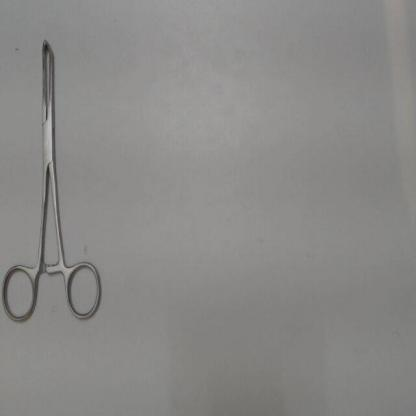Allis Tissue Forceps: (1, 20, 113, 329)
